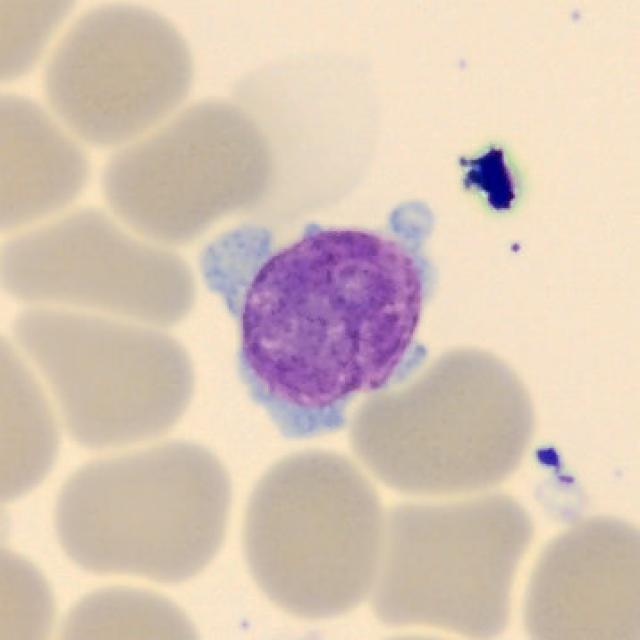Linfocito atipico: (198, 201, 436, 437)
